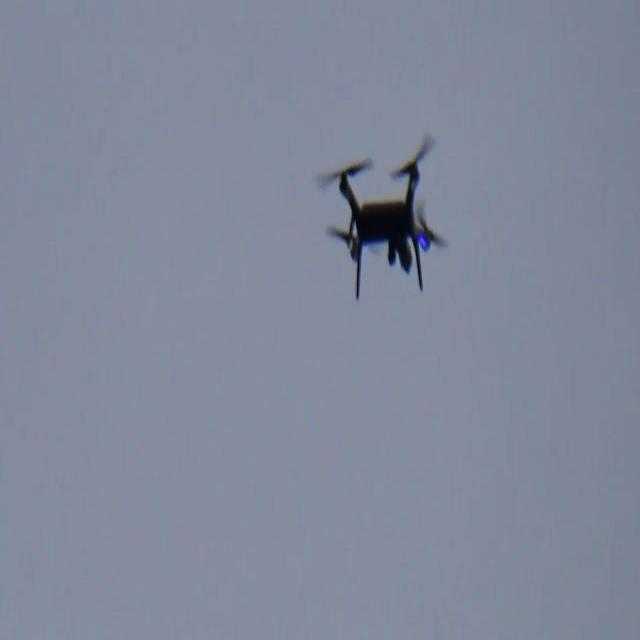UAV: (316, 134, 448, 302)
